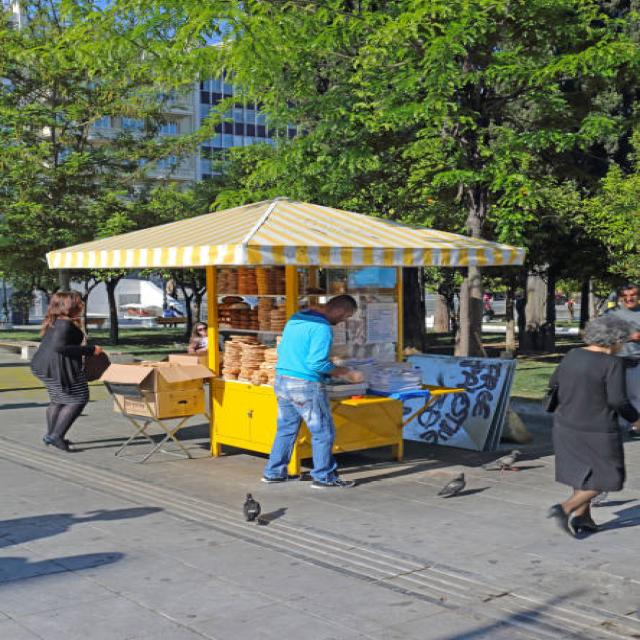Emperan: (37, 188, 564, 494)
